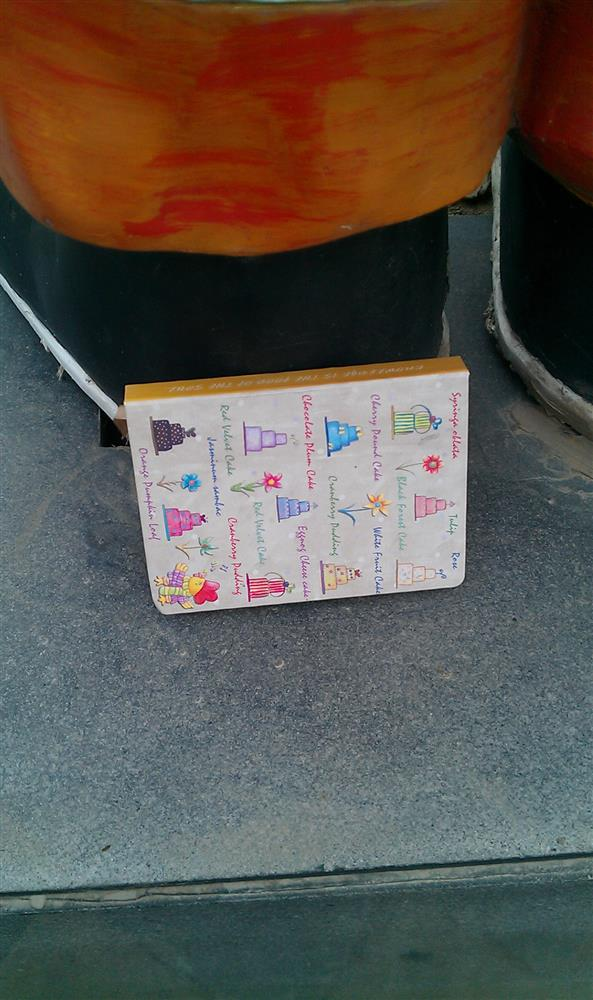notebook: (110, 336, 489, 618)
